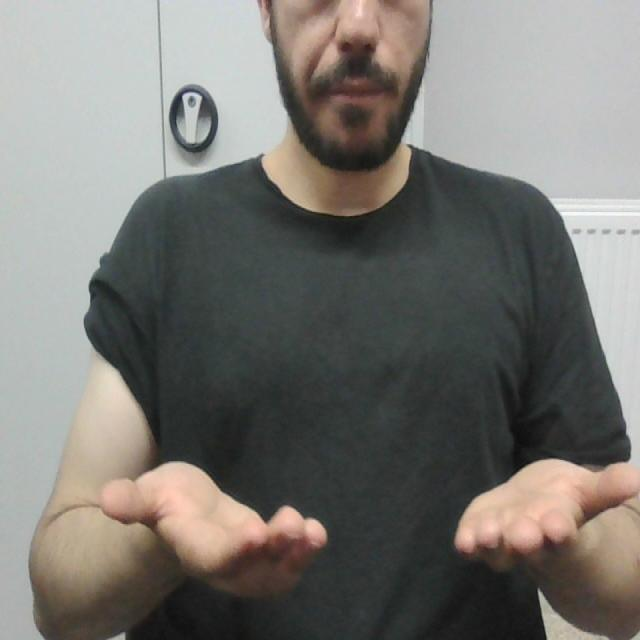Evet: (100, 453, 640, 603)
